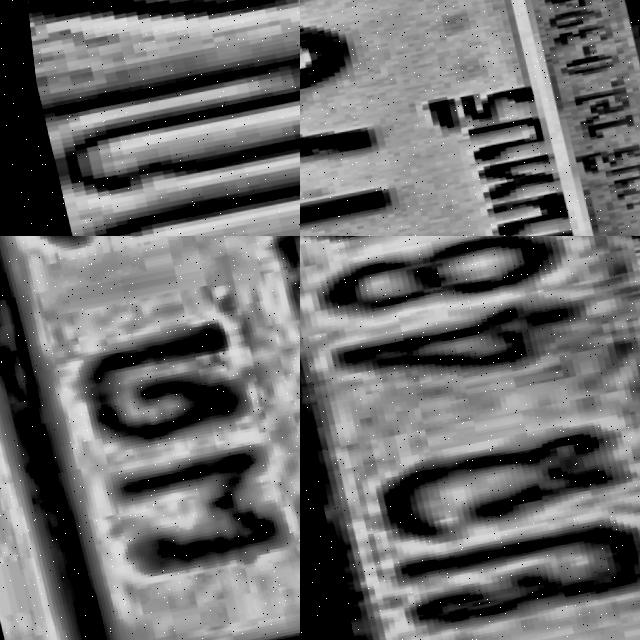license-plate: (300, 236, 640, 640), (0, 236, 300, 640), (300, 0, 640, 236), (0, 0, 300, 236)
